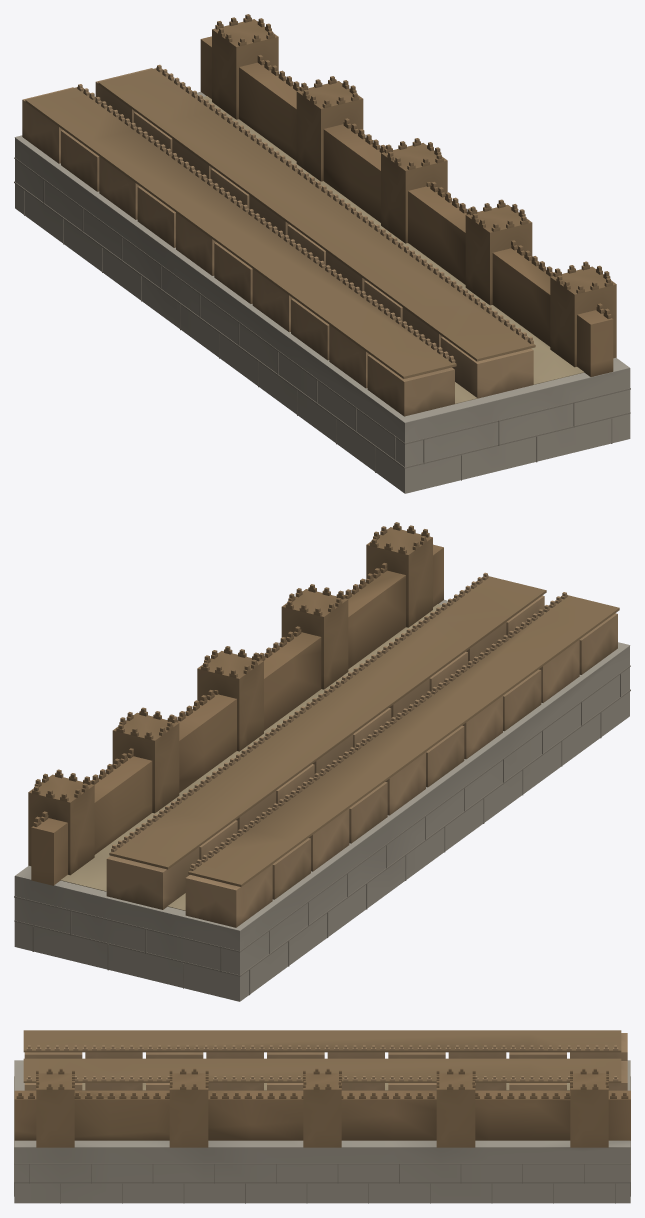
Rendered from garrison.glb.
The picture shows the model from 3 angles, top to bottom: view 1: azimuth 30°, elevation 25°; view 2: azimuth 150°, elevation 25°; view 3: azimuth 270°, elevation 25°; orthographic projection. The views are drawn at different scales.
Parts seen in each view (by area): view 1: p1_walls, p0_terrace, p2_roof; view 2: p1_walls, p0_terrace, p2_roof; view 3: p1_walls, p0_terrace, p2_roof.
Boxes of the visible parts, x1,y1,x2,y2 form: p1_walls: [22, 14, 616, 416]; p0_terrace: [14, 91, 630, 493]; p2_roof: [25, 64, 535, 378]; p1_walls: [28, 522, 617, 927]; p0_terrace: [14, 599, 630, 1001]; p2_roof: [109, 572, 619, 886]; p1_walls: [14, 1033, 630, 1147]; p0_terrace: [14, 1060, 630, 1203]; p2_roof: [23, 1030, 621, 1082].
Bounding box in the file's own units: 40.2 × 25.63 × 120.
